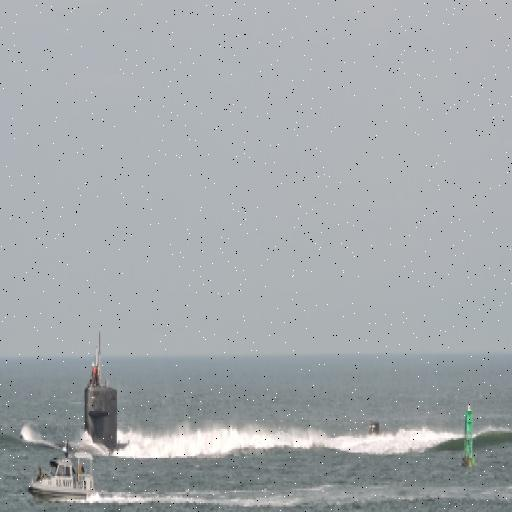submarine: (83, 372, 127, 452)
